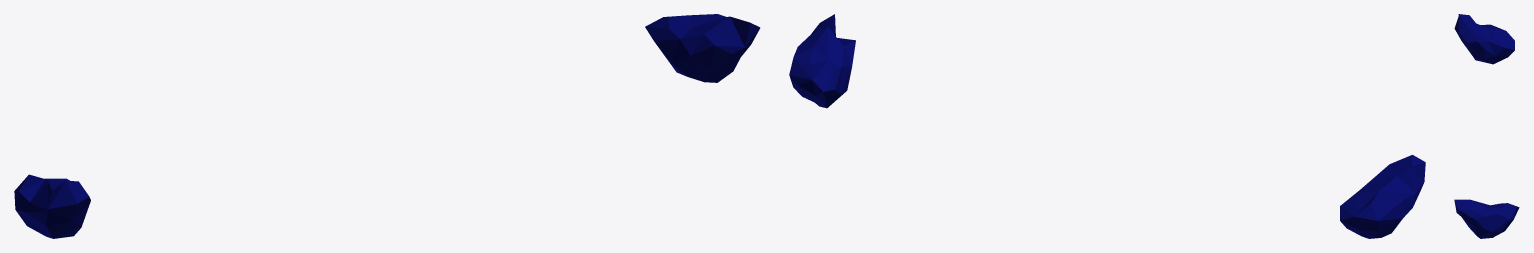
Rendered from 147-MGV-medial geniculate nucleus, ventral part-('0.0000', '0.0353', '0.4980').obj.
The picture shows the model from 3 angles, left to right: view 1: azimuth 30°, elevation 25°; view 2: azimuth 150°, elevation 25°; view 3: azimuth 270°, elevation 25°; orthographic projection. The views are drawn at different scales.
Size of the model in its own units: 125 by 13.64 by 17.83.
